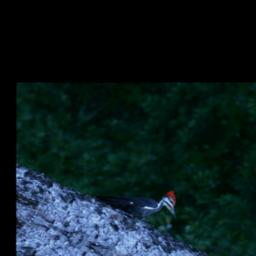Woodpecker: (88, 163, 191, 236)
